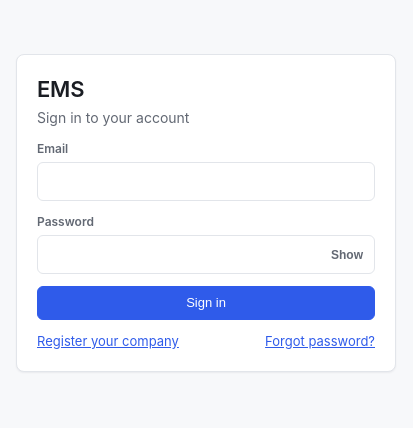
Test: Sub-feature 1.1: LoginPage › displays human-readable lock message when account is locked out
The width and height of the screenshot is (413, 428).
Type "locked@example.com" into the field labelled "Email" at [206, 182], box [37,162,375,201]
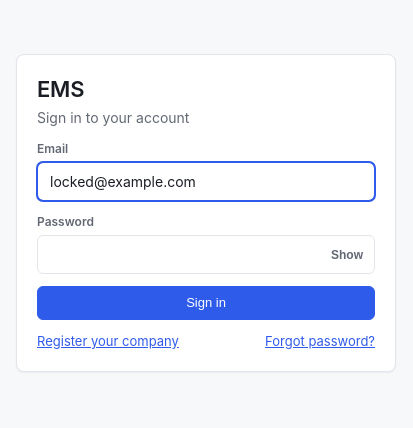
Type "Pass1234!" into the password field labelled "Password" at [206, 255], box [37,235,375,274]
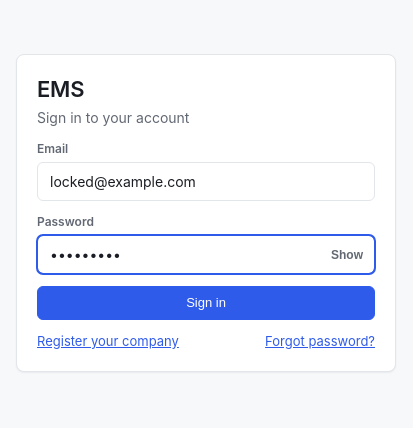
Click the button "Sign in" at [206, 303], box [37,286,375,320]
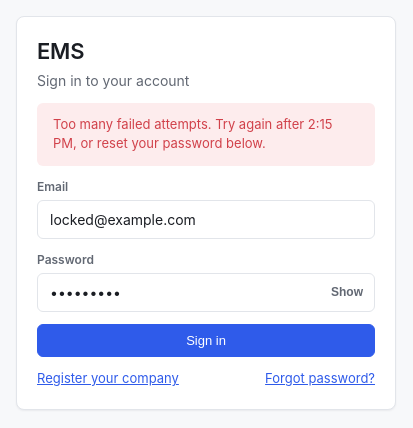
Check: the text "Too many failed attempts. Try again after" is shown, box [53,116,332,151]
